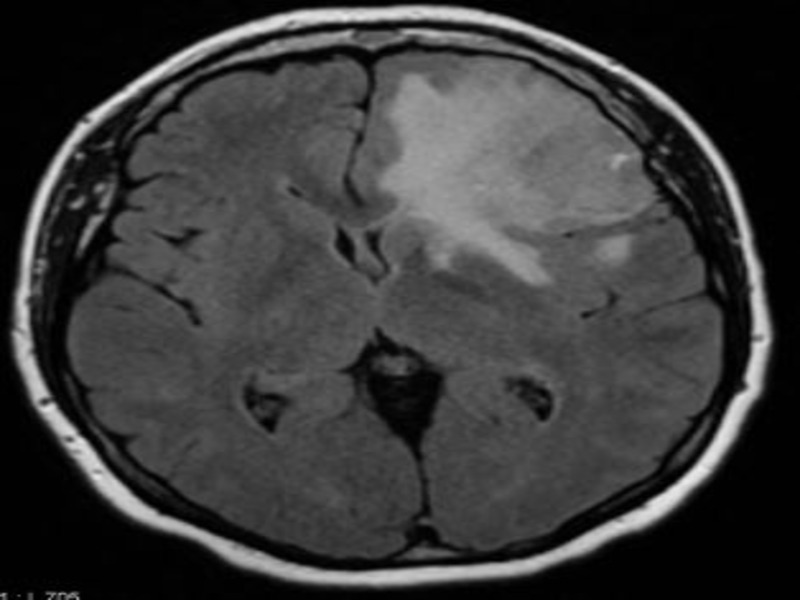tumor: (389, 73, 586, 297)
